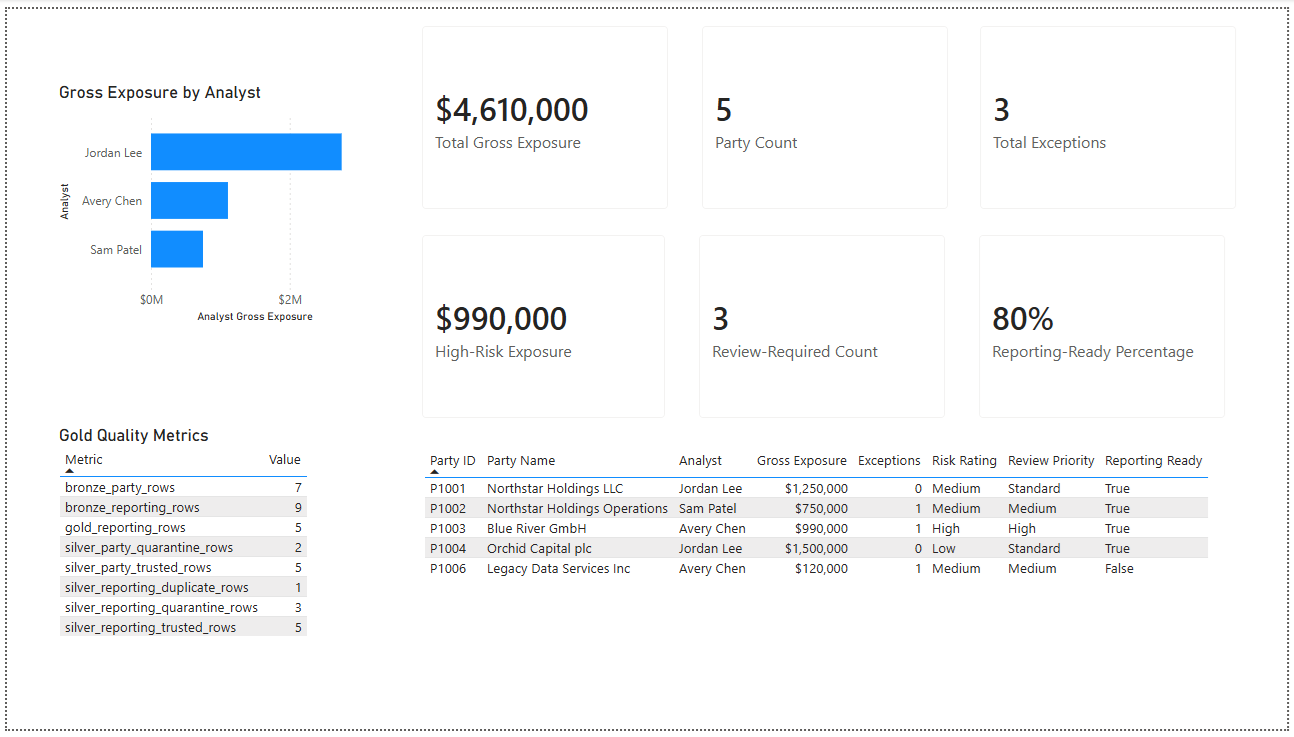

This screenshot's page, from the dashboard's own definition file:
{"tool":"powerbi","page":{"name":"Page 1","canvas":[1280,720],"ordinal":0},"visuals":[{"type":"cardVisual","fields":{"Data":["gold_party_reporting.Total Gross Exposure"]},"box":[398,0,280,217],"z":0},{"type":"cardVisual","fields":{"Data":["gold_party_reporting.Total Exceptions"]},"box":[956,0,290,217],"z":1},{"type":"cardVisual","fields":{"Data":["gold_party_reporting.Party Count"]},"box":[678,0,280,217],"z":2},{"type":"cardVisual","fields":{"Data":["gold_party_reporting.High-Risk Exposure"]},"box":[398,209,277,217],"z":3},{"type":"cardVisual","fields":{"Data":["gold_party_reporting.Review-Required Count"]},"box":[675,209,280,217],"z":4},{"type":"cardVisual","fields":{"Data":["gold_party_reporting.Reporting-Ready Percentage"]},"box":[955,209,280,217],"z":5},{"type":"clusteredBarChart","title":"Gross Exposure by Analyst","fields":{"Category":["gold_analyst_summary.analyst_name"],"Y":["gold_analyst_summary.Analyst Gross Exposure"]},"box":[47,73,322,245],"z":6},{"type":"tableEx","fields":{"Values":["gold_party_reporting.party_id","gold_party_reporting.party_name","gold_party_reporting.analyst_name","gold_party_reporting.gross_exposure_usd","gold_party_reporting.exception_count","gold_party_reporting.risk_rating","gold_party_reporting.review_priority","gold_party_reporting.reporting_ready"]},"box":[412,436,806,150],"z":7},{"type":"tableEx","title":"Gold Quality Metrics","fields":{"Values":["gold_quality_metrics.metric_name","gold_quality_metrics.metric_value"]},"box":[47,416,322,267],"z":8}]}

Visuals, with their boxes in screenshot pixels (x1, y1, x2, y2), scaled from the page's 1280x720 canvas onto the 1294x737 screenshot:
cardVisual - gold_party_reporting.Total Gross Exposure: (x1=402, y1=0, x2=685, y2=222)
cardVisual - gold_party_reporting.Total Exceptions: (x1=966, y1=0, x2=1260, y2=222)
cardVisual - gold_party_reporting.Party Count: (x1=685, y1=0, x2=968, y2=222)
cardVisual - gold_party_reporting.High-Risk Exposure: (x1=402, y1=214, x2=682, y2=436)
cardVisual - gold_party_reporting.Review-Required Count: (x1=682, y1=214, x2=965, y2=436)
cardVisual - gold_party_reporting.Reporting-Ready Percentage: (x1=965, y1=214, x2=1249, y2=436)
"Gross Exposure by Analyst" clusteredBarChart: (x1=48, y1=75, x2=373, y2=326)
tableEx - gold_party_reporting.party_id x gold_party_reporting.party_name: (x1=417, y1=446, x2=1231, y2=600)
"Gold Quality Metrics" tableEx: (x1=48, y1=426, x2=373, y2=699)
